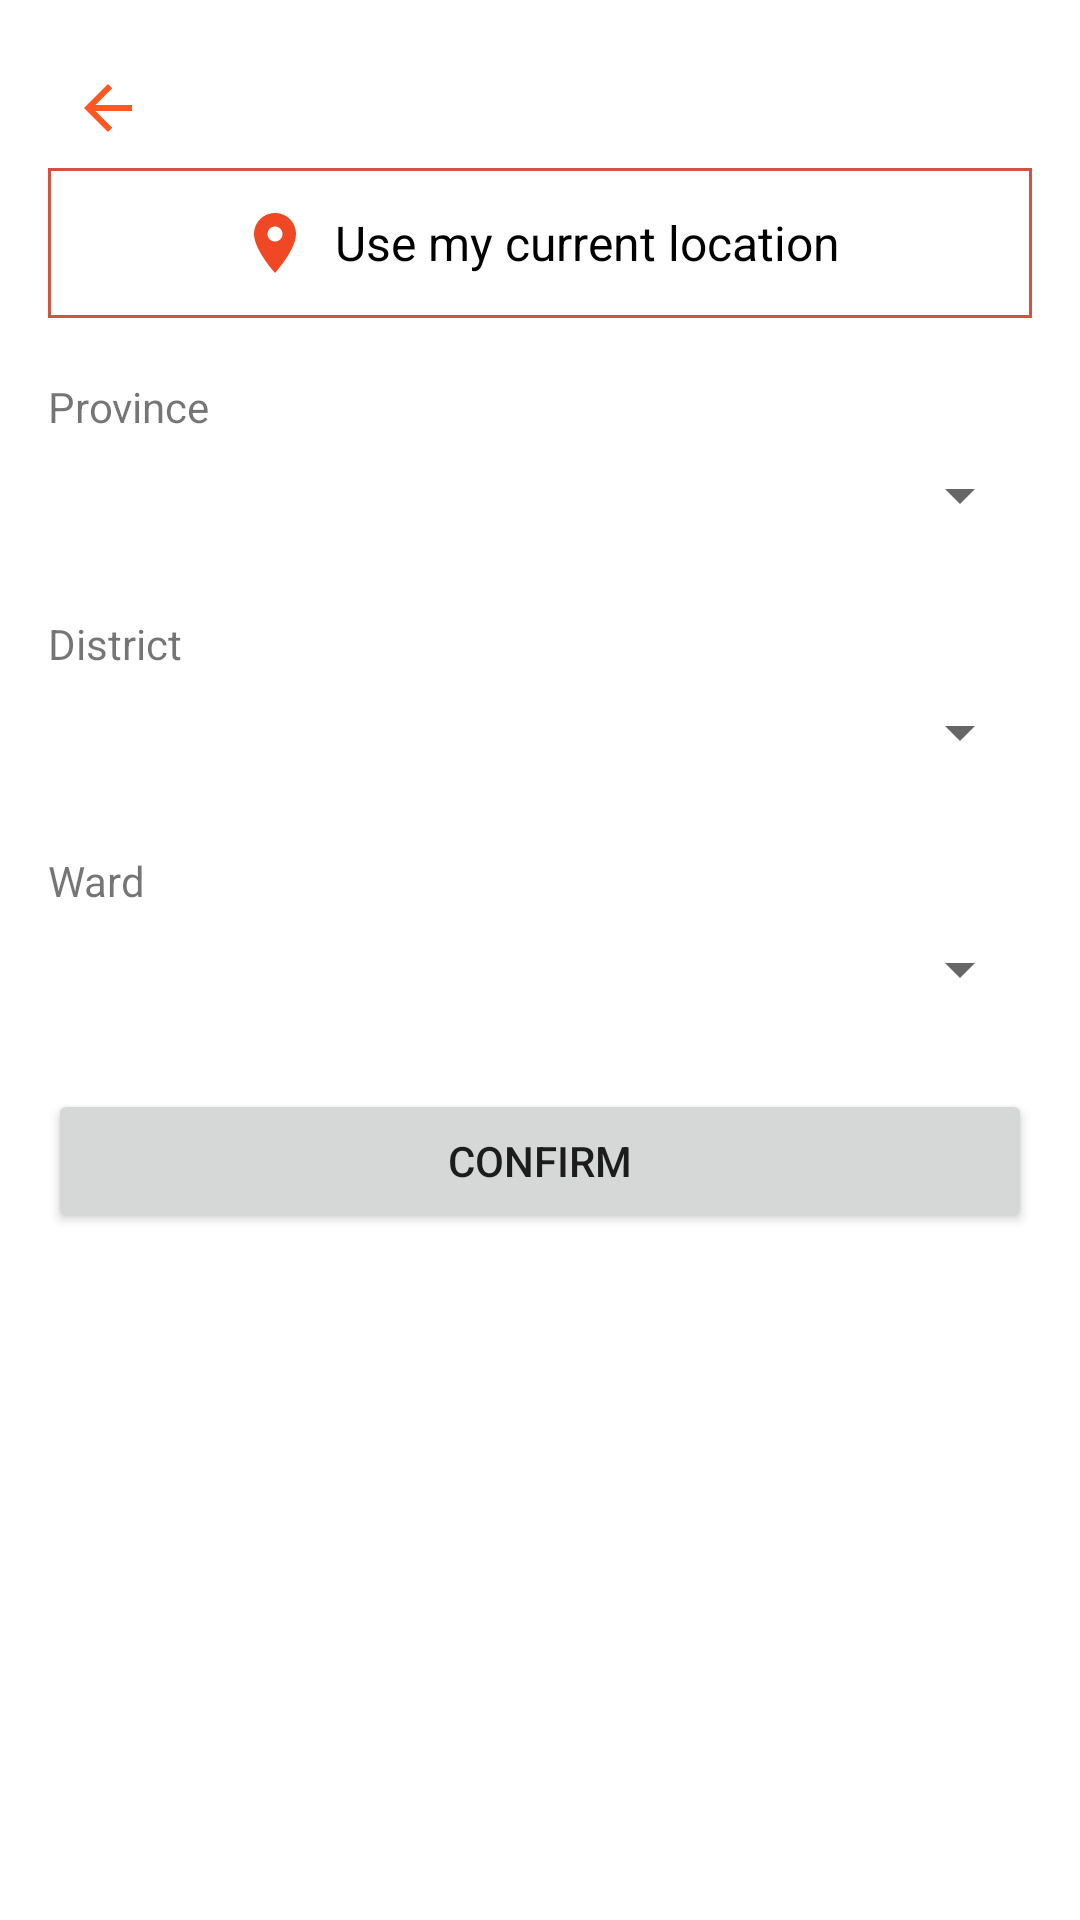

Locate icon controls on the screen. Image size 1080×1920, boxes as (x1, y1, x2, y2).
arrow left address: (84, 84, 132, 132)
